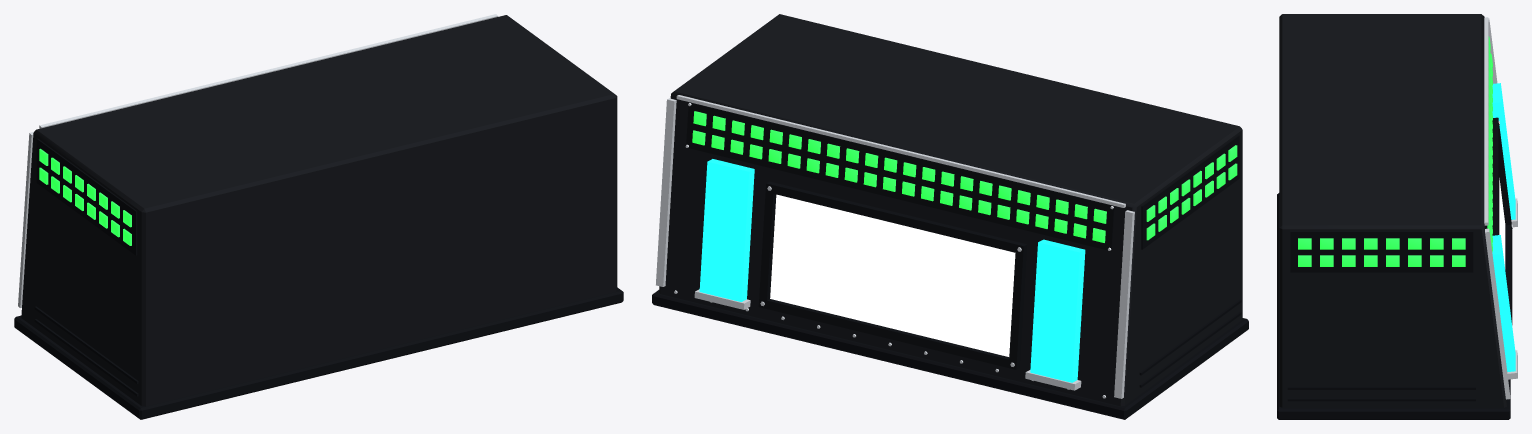
File: deck_pillars.glb
3 renders of one model, left to right at view 1: azimuth 30°, elevation 25°; view 2: azimuth 150°, elevation 25°; view 3: azimuth 270°, elevation 25°, orthographic. The views are drawn at different scales.
Visible parts, largest first — view 1: deck_pillars_deco_body, deck_pillars_deco_trim, deck_pillars_chrome, deck_pillars_deco_led; view 2: deck_pillars_deco_body, deck_pillars_deco_trim, deck_pillars_acrylic_sign, deck_pillars_deco_neon, deck_pillars_deco_led, deck_pillars_chrome; view 3: deck_pillars_deco_body, deck_pillars_deco_trim, deck_pillars_deco_led, deck_pillars_deco_neon, deck_pillars_chrome, deck_pillars_acrylic_sign.
Part boxes in pixels (x1,y1,x2,y2): deck_pillars_deco_body: (21,15,617,406); deck_pillars_deco_trim: (14,138,623,419); deck_pillars_chrome: (18,14,498,307); deck_pillars_deco_led: (39,148,131,245); deck_pillars_deco_body: (659,14,1242,406); deck_pillars_deco_trim: (652,102,1248,419); deck_pillars_acrylic_sign: (770,194,1015,356); deck_pillars_deco_neon: (699,159,1085,382); deck_pillars_deco_led: (692,111,1237,242); deck_pillars_chrome: (656,95,1134,398); deck_pillars_deco_body: (1279,14,1506,407); deck_pillars_deco_trim: (1277,117,1512,419); deck_pillars_deco_led: (1298,36,1492,266); deck_pillars_deco_neon: (1492,83,1515,371); deck_pillars_chrome: (1484,17,1517,399); deck_pillars_acrylic_sign: (1499,178,1505,268).
Size of the model in its own units: 2.14 by 0.88 by 0.9997.
